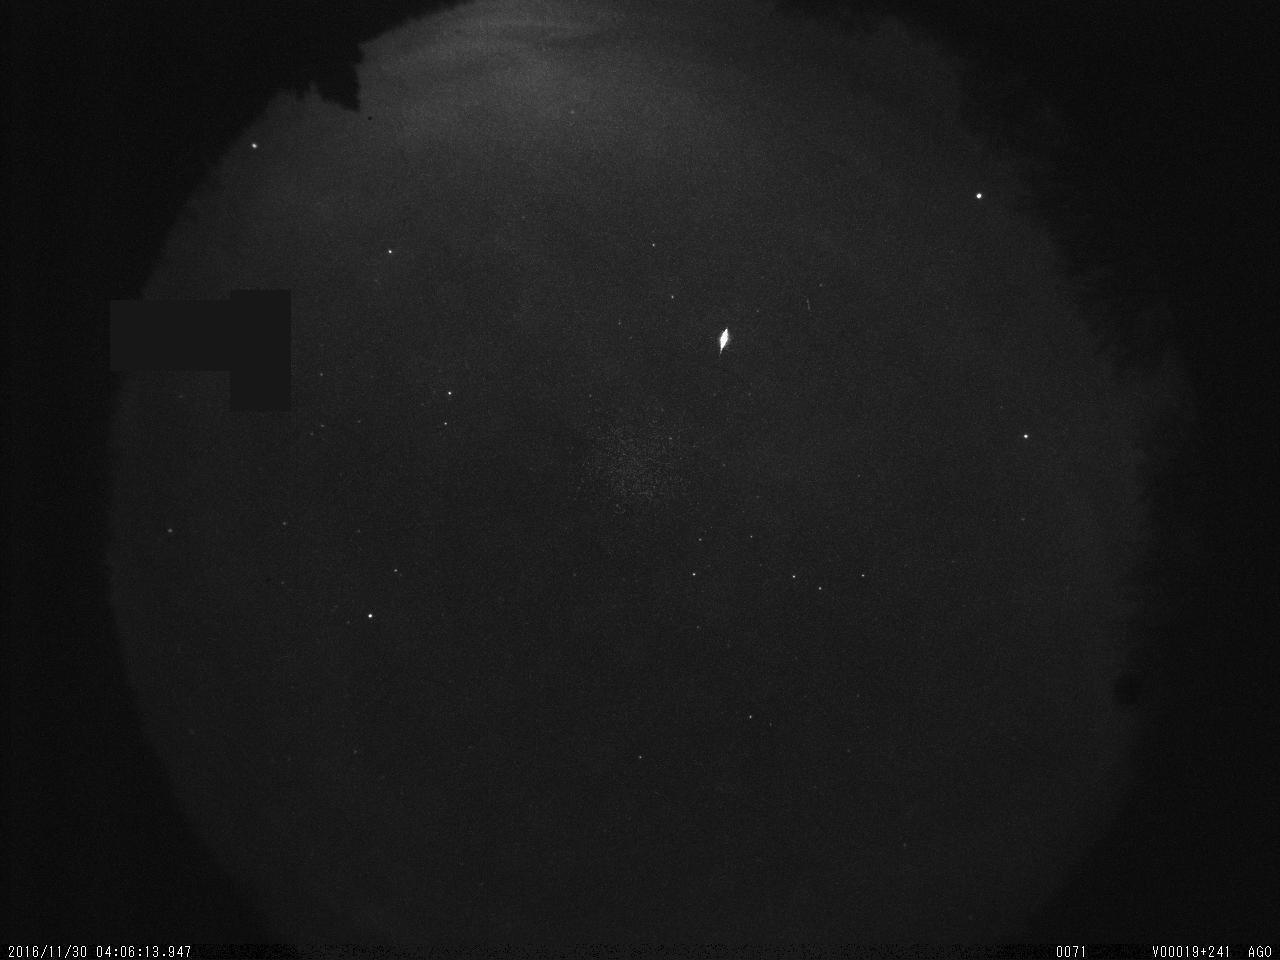Meteor: (715, 325, 731, 355)
